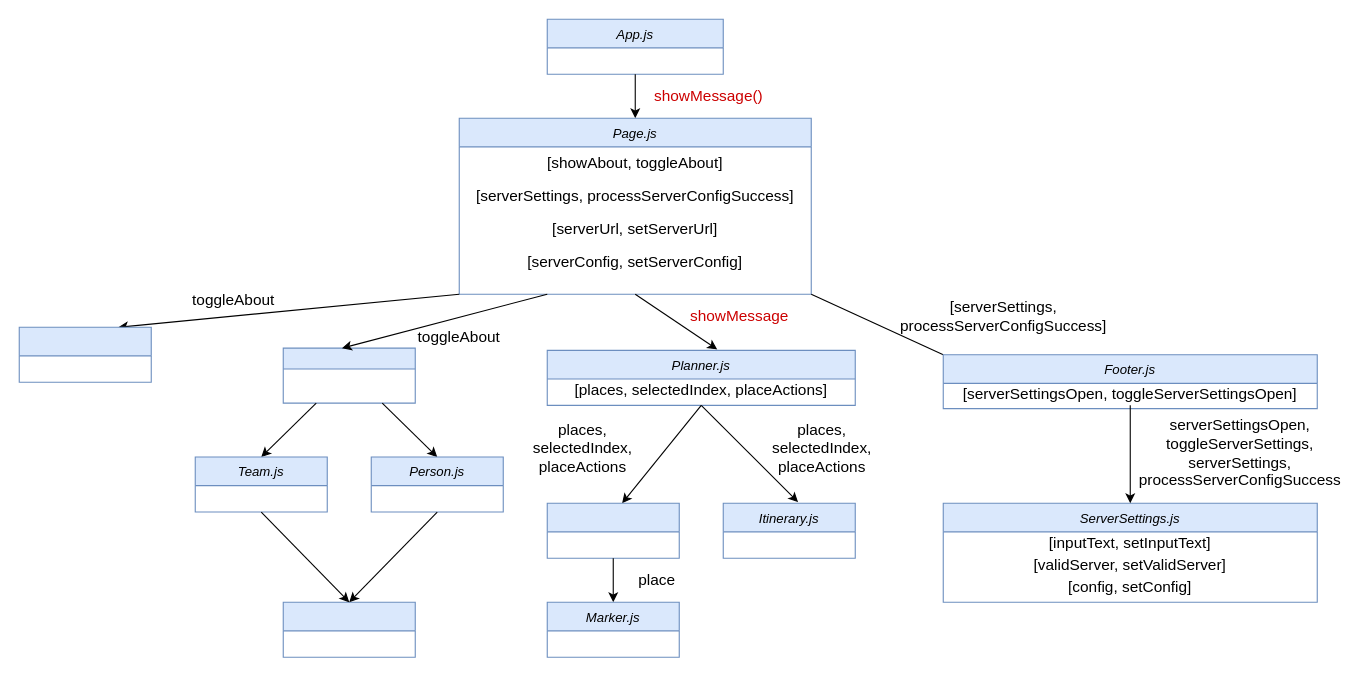
The diagram is 1370 pixels wide and 677 high, and some of its shapes have lost their labels. The shapes that lost their labels are listed below. From the top down, each one's centre as x and y in pixels, then its label:
At point (84, 354): "Header.js".
At point (348, 375): "About.js".
At point (612, 530): "Map.js".
At point (348, 629): "AboutCard.js".
